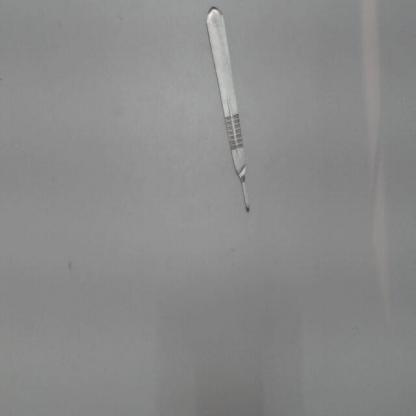No.3 BP Handle: (197, 1, 259, 220)
